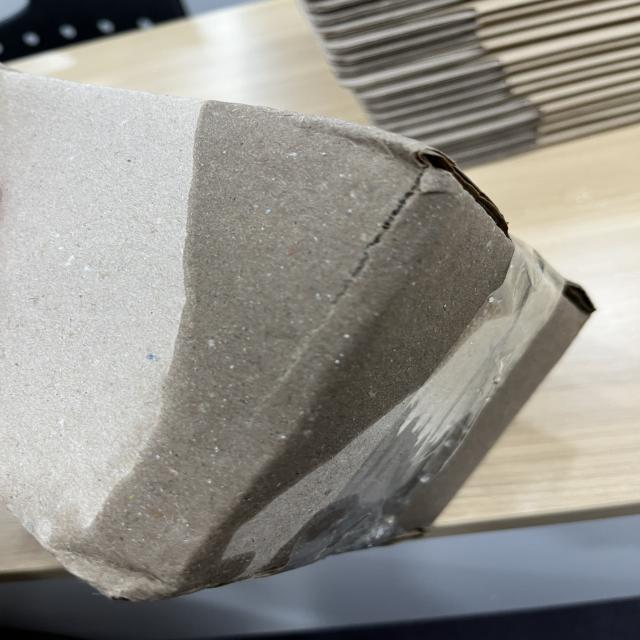wet: (125, 103, 591, 597)
